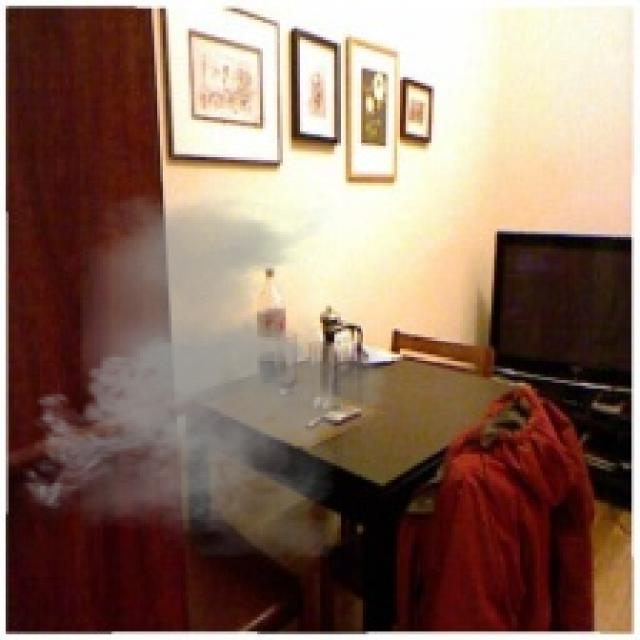smoke: (11, 194, 403, 557)
